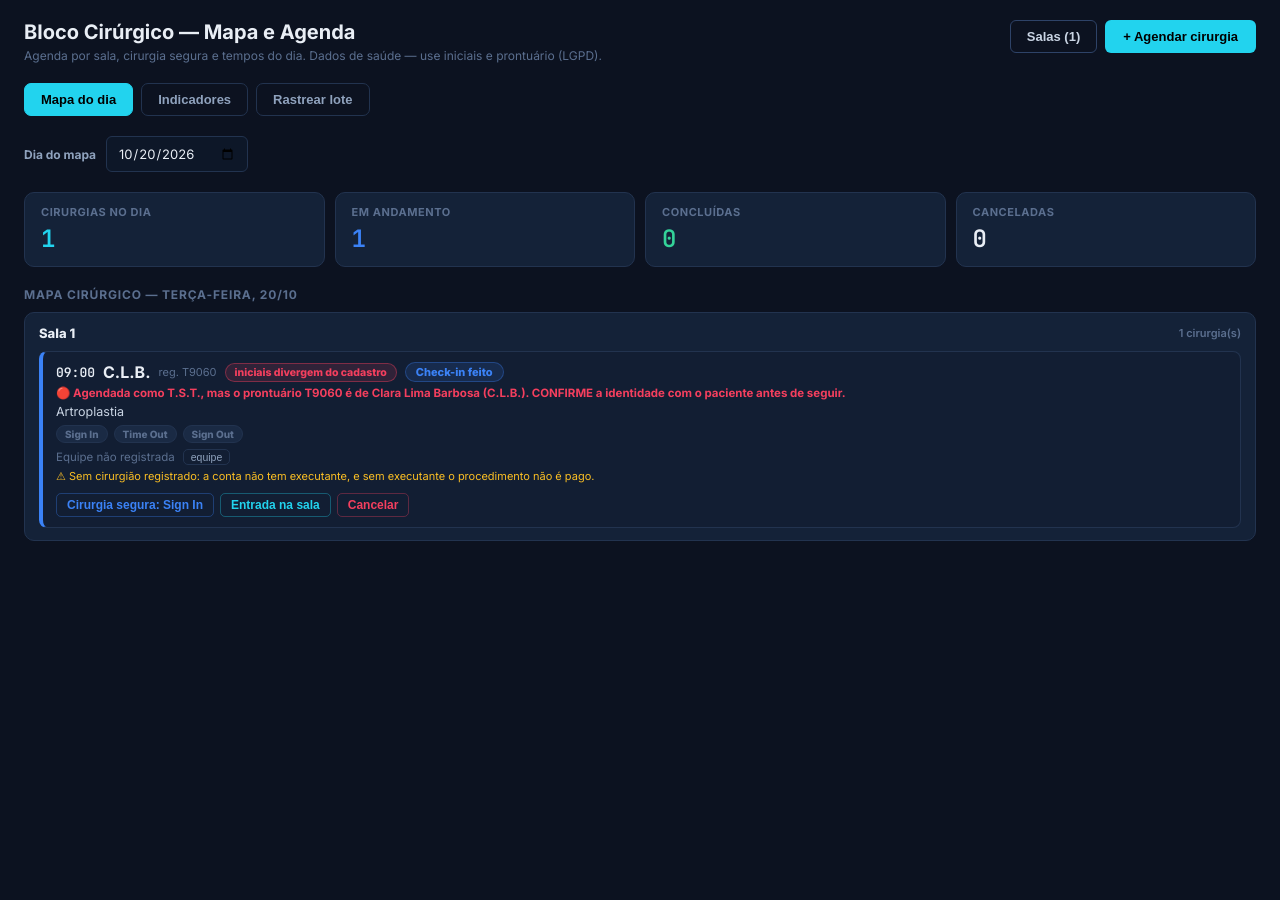
🔴 o Sign In não confere identidade contra o rótulo de outra pessoa › o aviso de divergência aparece DENTRO do modal, ANTES dos itens
Click the button "Cirurgia segura: Sign In".
click(135, 505)  # box [56, 493, 214, 517]
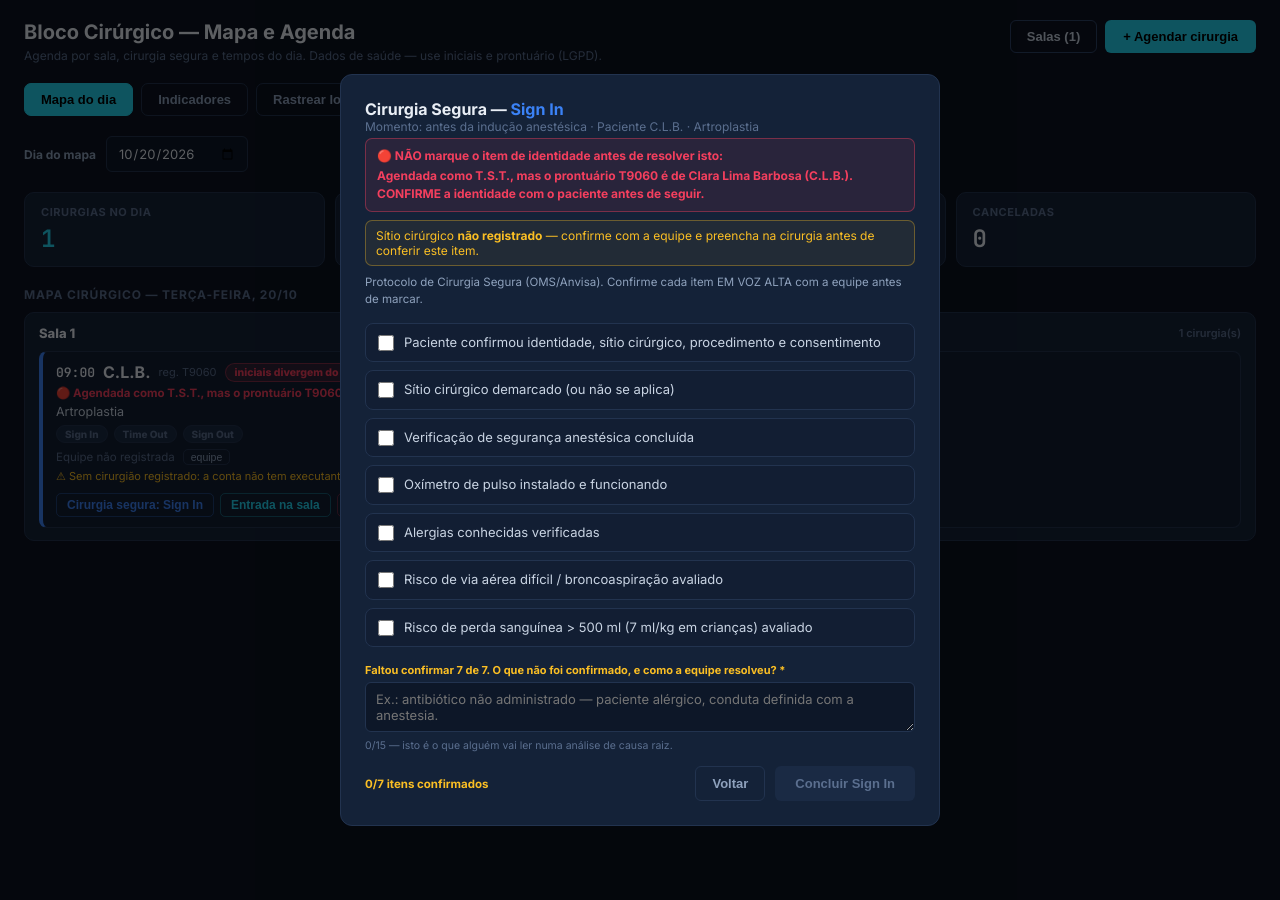
Check: the button "Voltar" is shown, box [695, 766, 765, 801]
